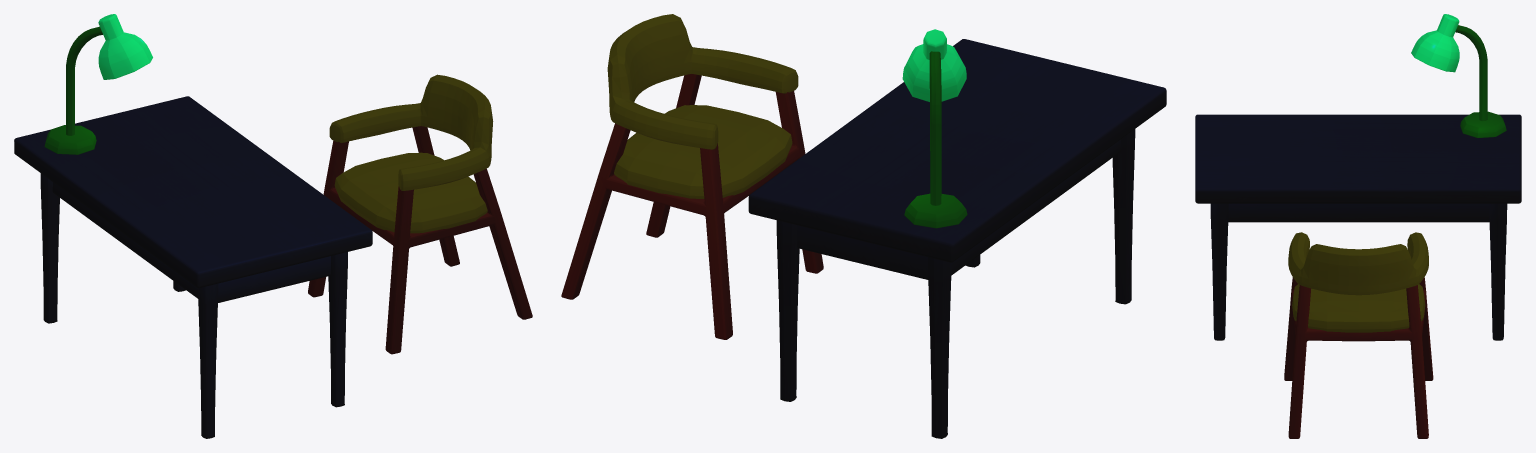
The model's file is desk.glb.
3 renders of one model, left to right at view 1: azimuth 30°, elevation 25°; view 2: azimuth 150°, elevation 25°; view 3: azimuth 270°, elevation 25°, orthographic. The views are drawn at different scales.
Visible parts, largest first — view 1: room1_desk, room1_chair, room1_stand_small; view 2: room1_desk, room1_chair, room1_stand_small; view 3: room1_desk, room1_chair, room1_stand_small.
Part boxes in pixels (box(x1,y1,x2,y2)): room1_desk: box(14, 96, 372, 438); room1_chair: box(308, 74, 532, 354); room1_stand_small: box(44, 14, 152, 154); room1_desk: box(748, 39, 1166, 438); room1_chair: box(561, 14, 823, 339); room1_stand_small: box(902, 29, 967, 228); room1_desk: box(1195, 114, 1521, 340); room1_chair: box(1284, 232, 1433, 438); room1_stand_small: box(1411, 14, 1506, 137).
Bounding box in the file's own units: 4.68 × 3.66 × 3.85.
3 materials, 3 textured.
